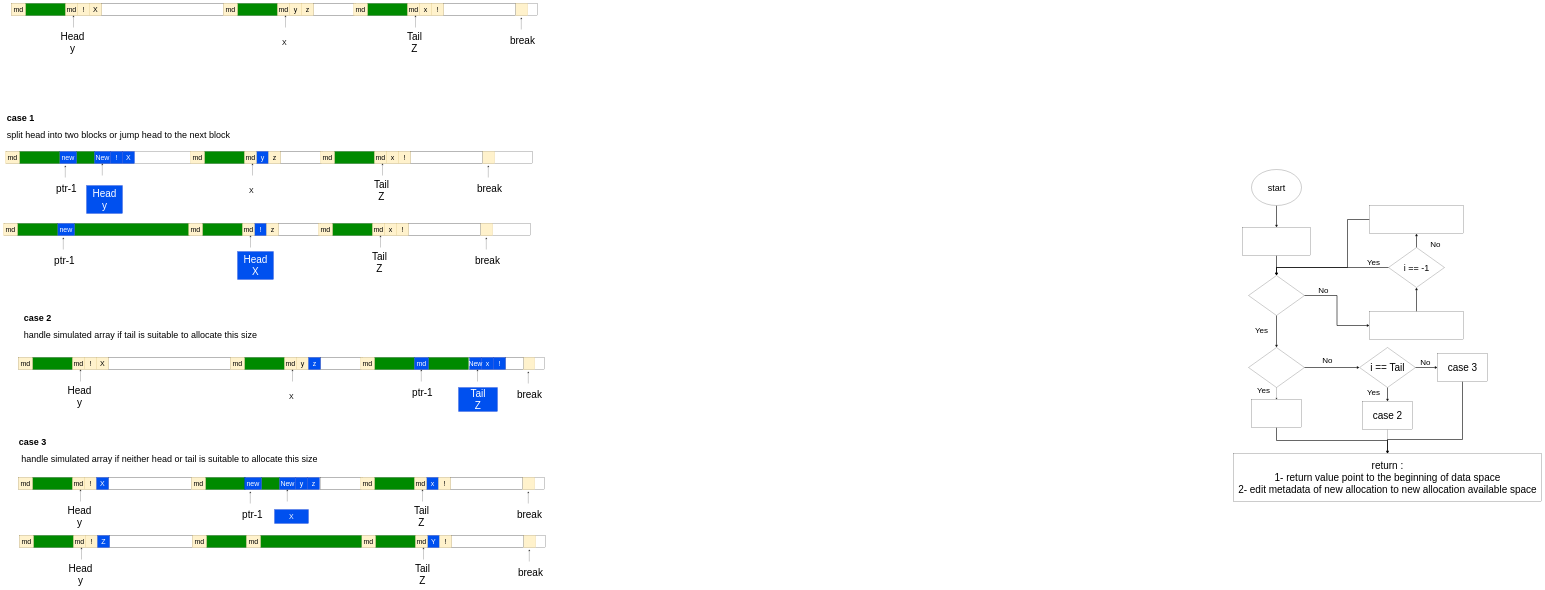
The diagram is 1545 pixels wide and 590 high, and some of its shapes have lost their labels. The centre of each missing label's shape, as x and y in pixels:
case 1: the point at 1276,413
Extend break: the point at 1416,219
i = next free space node: the point at 1416,325
i == head: the point at 1276,367
malloc(size): the point at 1276,241
SimHeap[i] >= Size: the point at 1276,295
